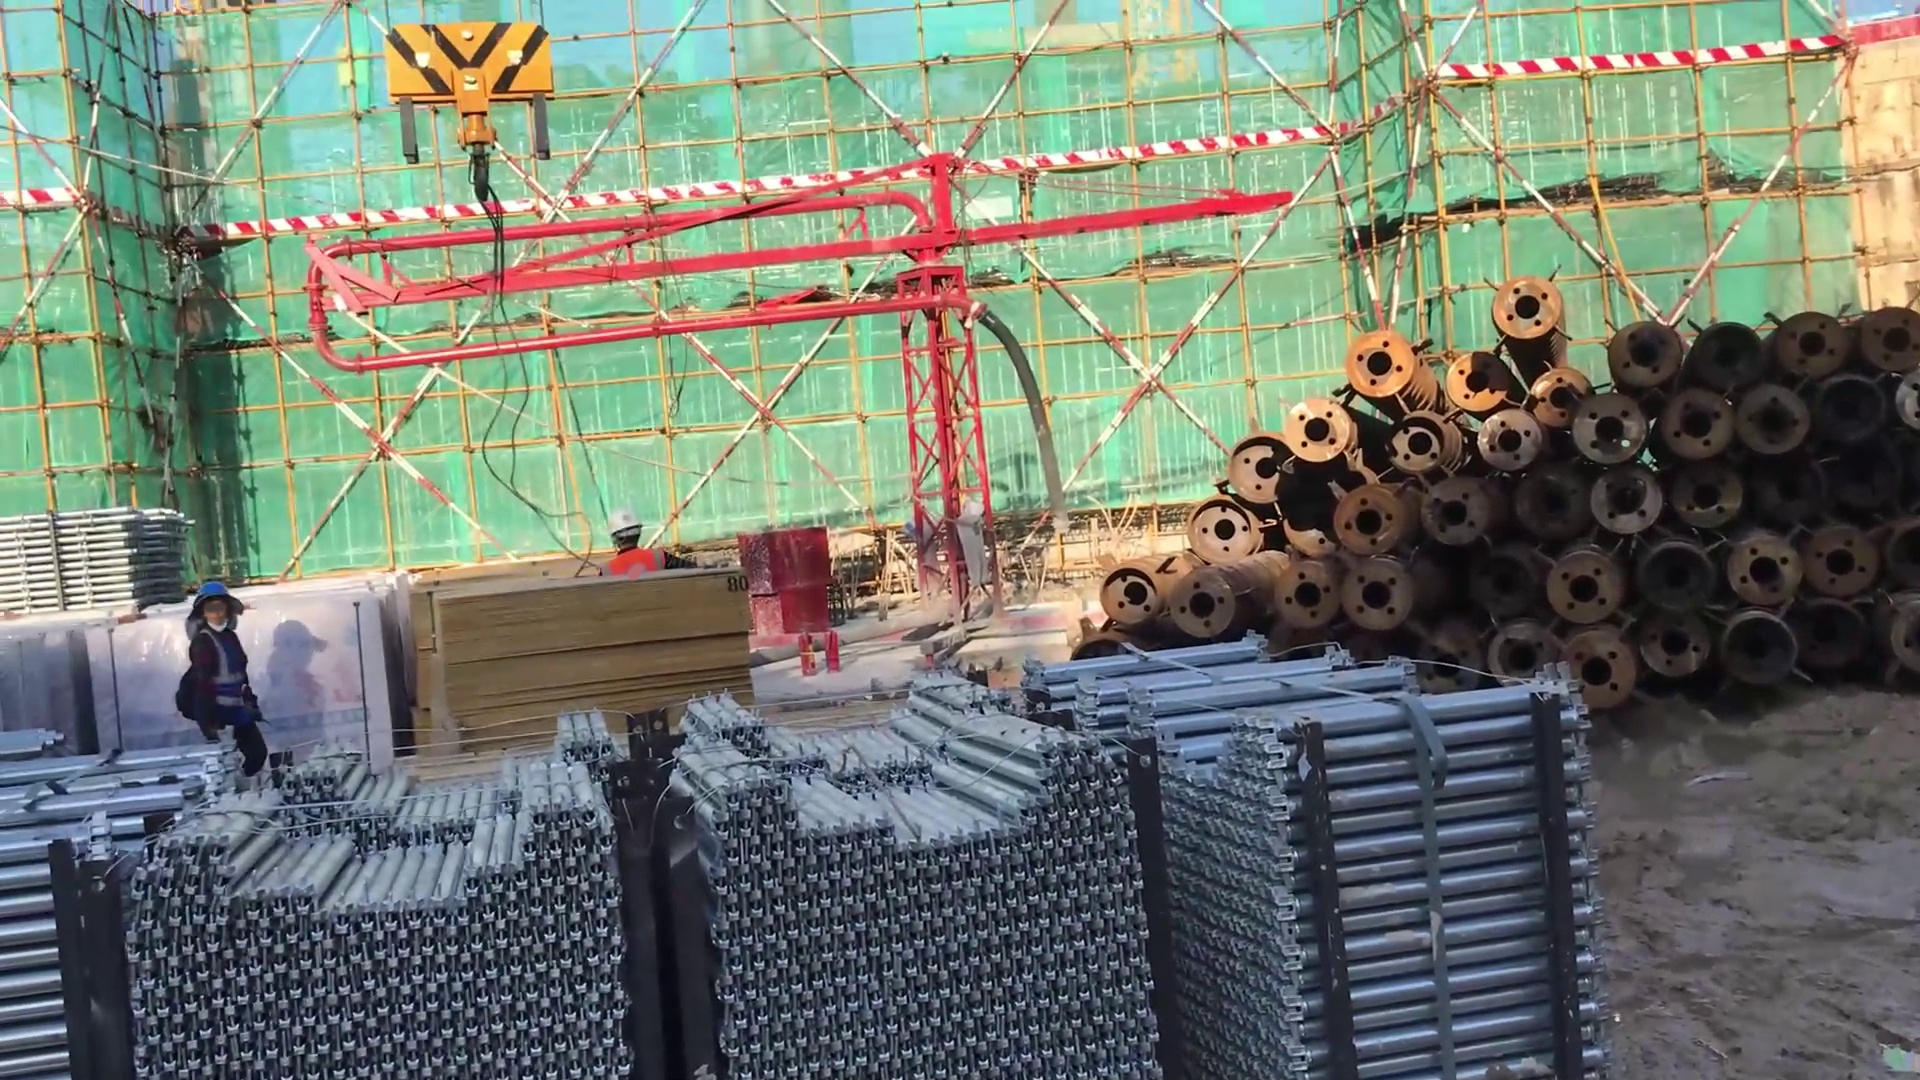board: (412, 566, 766, 762)
helmet: (191, 576, 243, 644), (605, 505, 651, 561)
hook: (368, 21, 588, 216), (388, 7, 576, 232)
person: (177, 576, 278, 787), (592, 511, 697, 595)
scaffold: (1018, 623, 1625, 1080), (675, 681, 1184, 1080), (118, 706, 634, 1080), (1, 702, 229, 1080), (1, 502, 184, 622)
vest: (188, 629, 265, 736), (595, 549, 683, 582)
